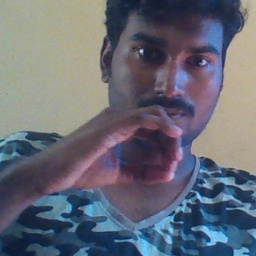O: (54, 95, 188, 199)
